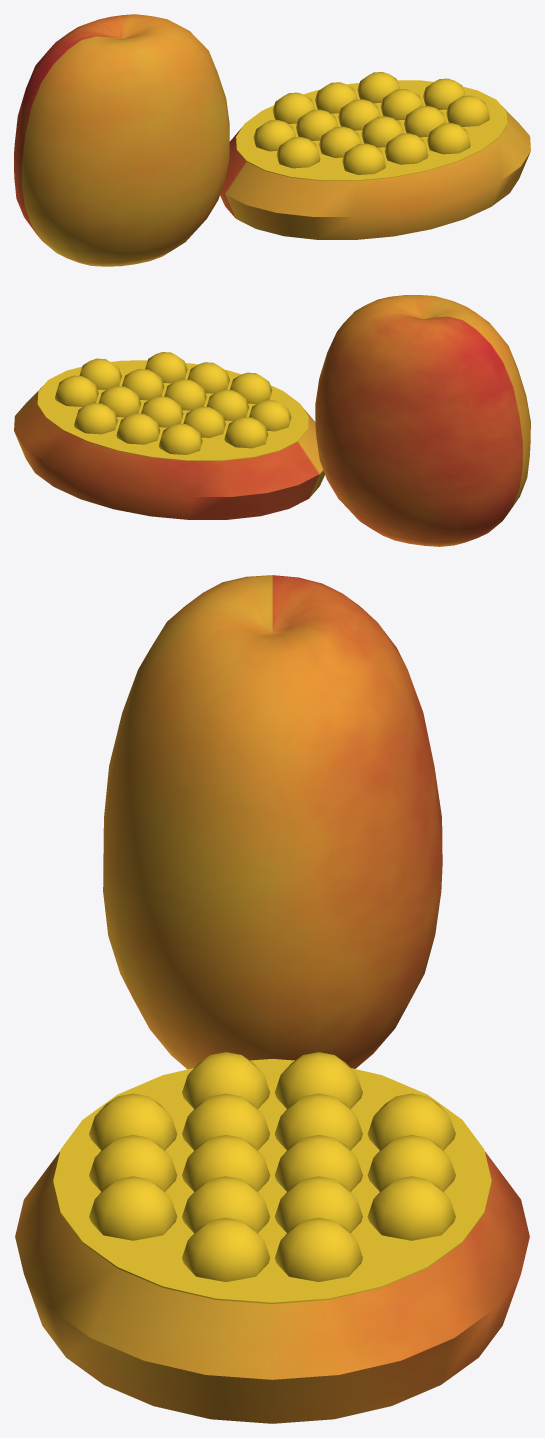
Rendered from fruit_mango_hedgehog.glb.
3 renders of one model, top to bottom at view 1: azimuth 30°, elevation 25°; view 2: azimuth 150°, elevation 25°; view 3: azimuth 270°, elevation 25°, orthographic. The views are drawn at different scales.
Parts seen in each view (by area): view 1: fruit_mango_hedgehog; view 2: fruit_mango_hedgehog; view 3: fruit_mango_hedgehog.
Part boxes in pixels (bbox=[...]): fruit_mango_hedgehog: bbox=[14, 14, 530, 266]; fruit_mango_hedgehog: bbox=[14, 295, 530, 546]; fruit_mango_hedgehog: bbox=[15, 575, 529, 1423].
Size of the model in its own units: 0.2285 by 0.0957 by 0.1026.
Materials: 2 (1 with a texture image).
